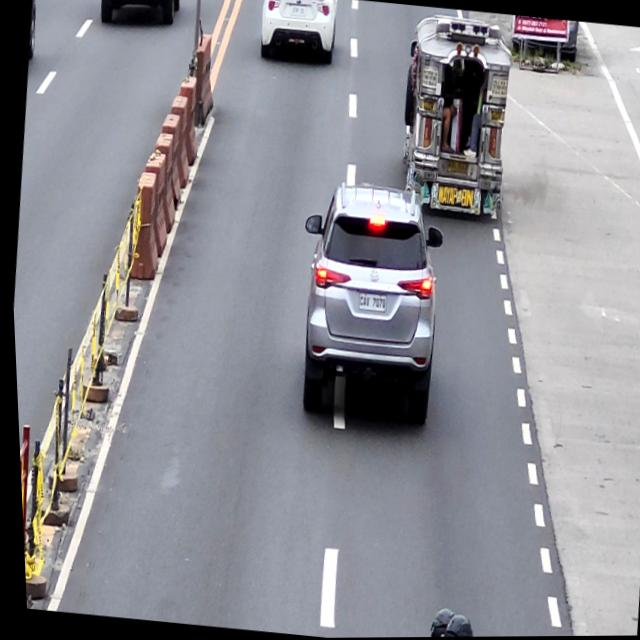Car: (282, 178, 451, 429), (255, 0, 341, 65)
Jeep: (388, 10, 522, 220)
License-Plate: (355, 291, 385, 314), (444, 159, 467, 177), (289, 5, 306, 17)
